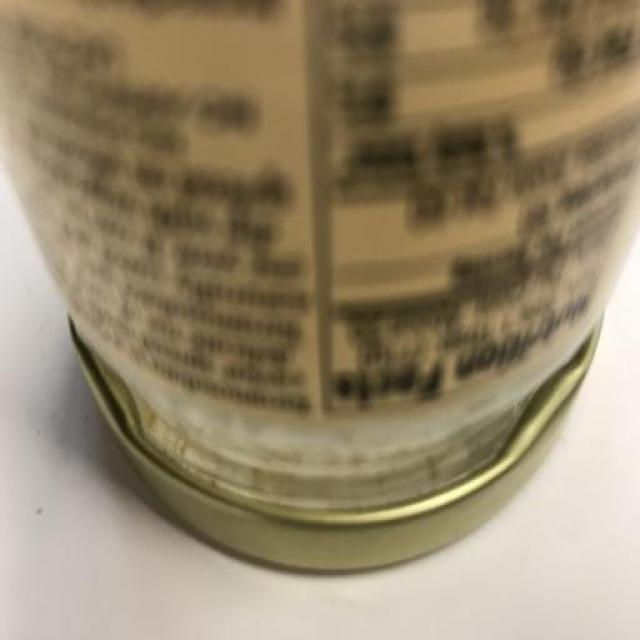Waste: (0, 2, 640, 569)
